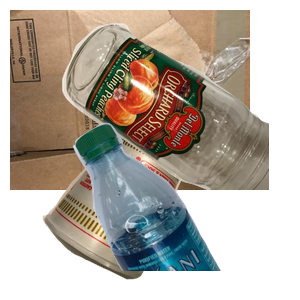cardboard: (10, 10, 250, 190)
glass: (60, 21, 300, 201)
plastic: (71, 120, 300, 300)
trash: (40, 121, 221, 300)
